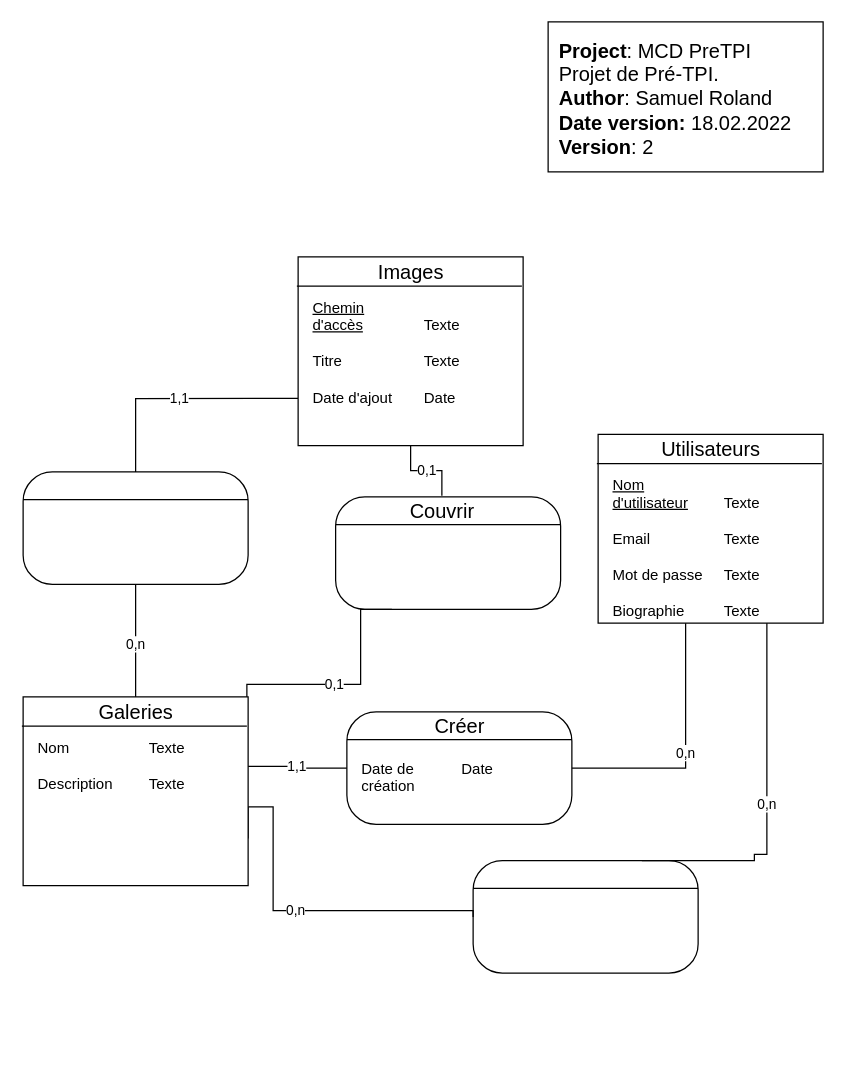
The diagram is 845 pixels wide and 1068 high, and some of its shapes have lost their labels. Here are the shapes that lost their labels. From the top down, the centre of each, then its label:
(135,527): Constituer
(585,916): Suivre
